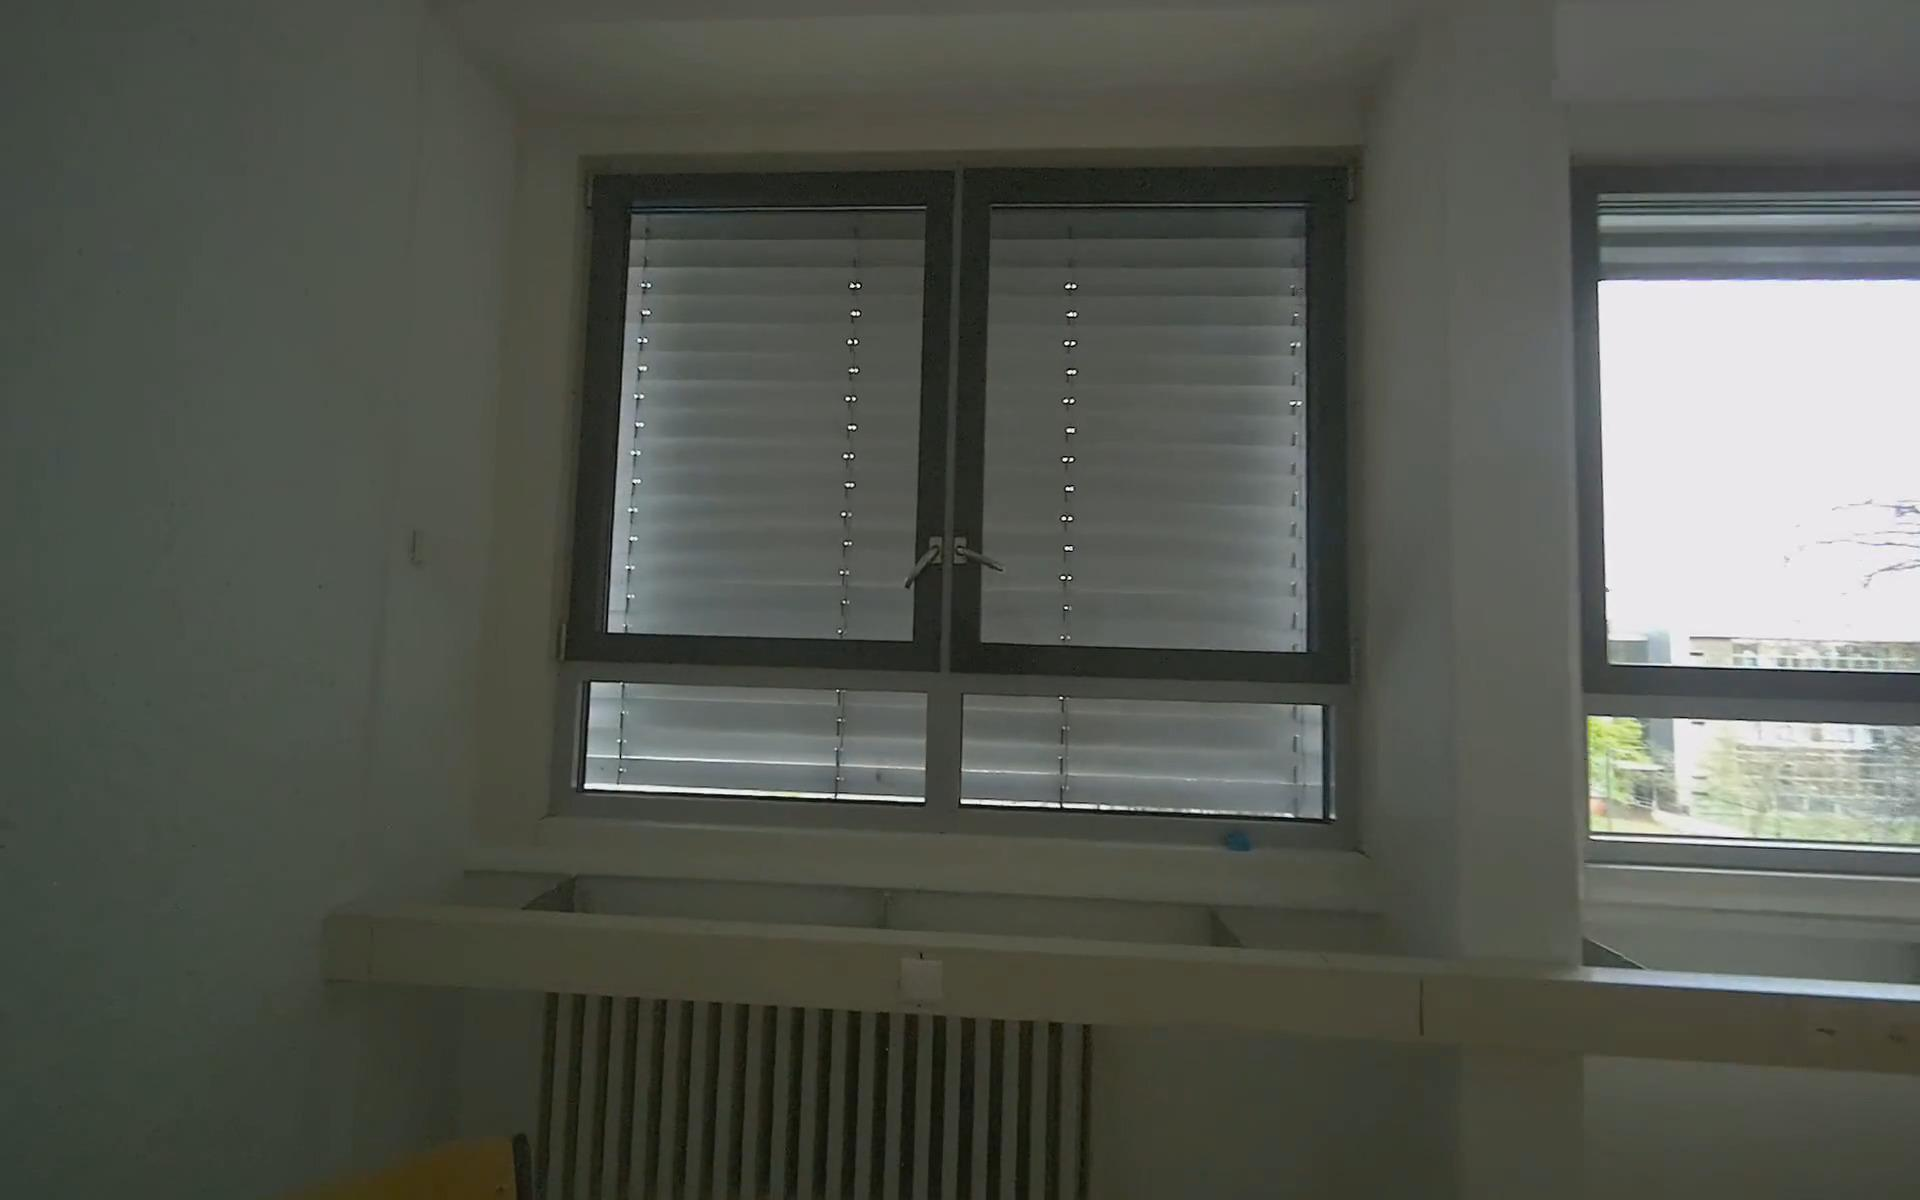chair: (225, 1122, 550, 1200)
radiator: (530, 965, 1105, 1200)
window: (558, 165, 1362, 847), (1563, 153, 1920, 882)
